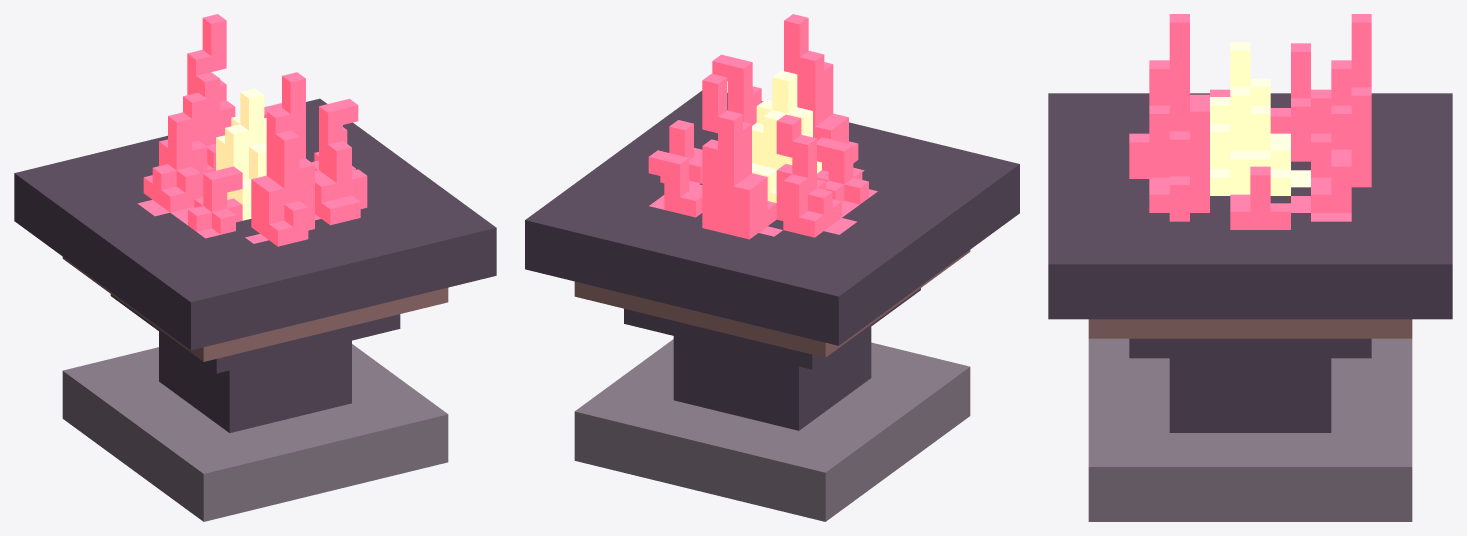
The model's file is blood_brazier.glb.
3 renders of one model, left to right at view 1: azimuth 30°, elevation 25°; view 2: azimuth 150°, elevation 25°; view 3: azimuth 270°, elevation 25°, orthographic. The views are drawn at different scales.
Bounding box in the file's own units: 0.8333 × 1 × 0.8333.
